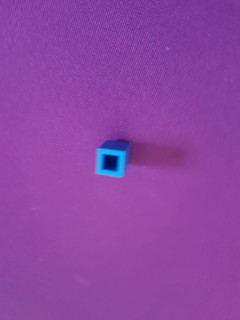1x1 blue: (93, 138, 135, 180)
